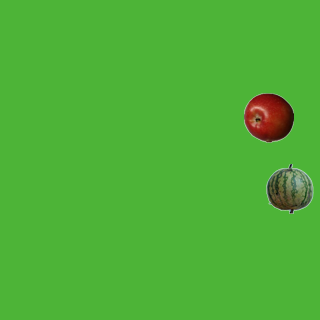Apple Braeburn: (243, 92, 293, 142)
Watermelon: (264, 163, 314, 213)
